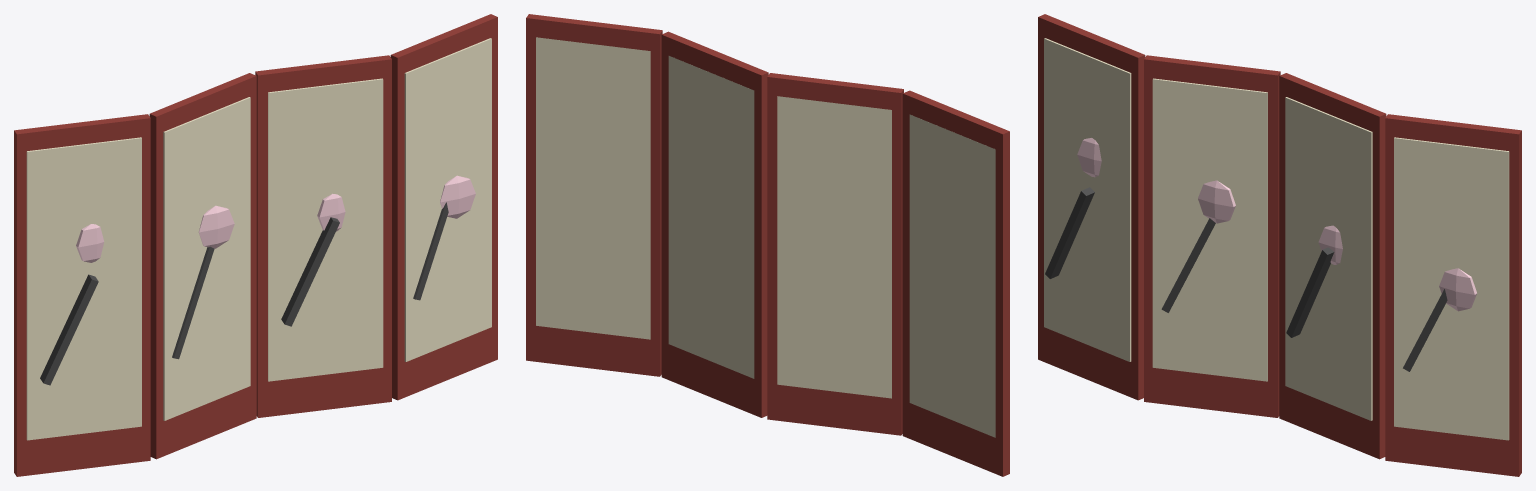
Rendered from cn_screen.glb.
3 views of the same model, side by side, from view 1: azimuth 30°, elevation 25°; view 2: azimuth 150°, elevation 25°; view 3: azimuth 330°, elevation 25° (orthographic).
Parts seen in each view (by area): view 1: cn_screen; view 2: cn_screen; view 3: cn_screen.
Part boxes in pixels (x1,y1,x2,y2): cn_screen: (14, 14, 497, 476); cn_screen: (526, 14, 1009, 476); cn_screen: (1038, 14, 1521, 476).
Bounding box in the file's own units: 2.79 × 1.9 × 0.2181.
